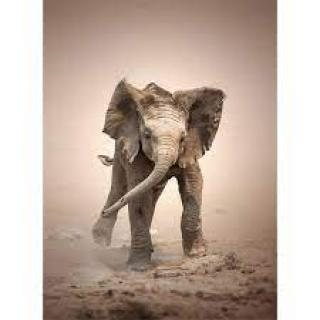Elephant: (85, 67, 238, 277)
